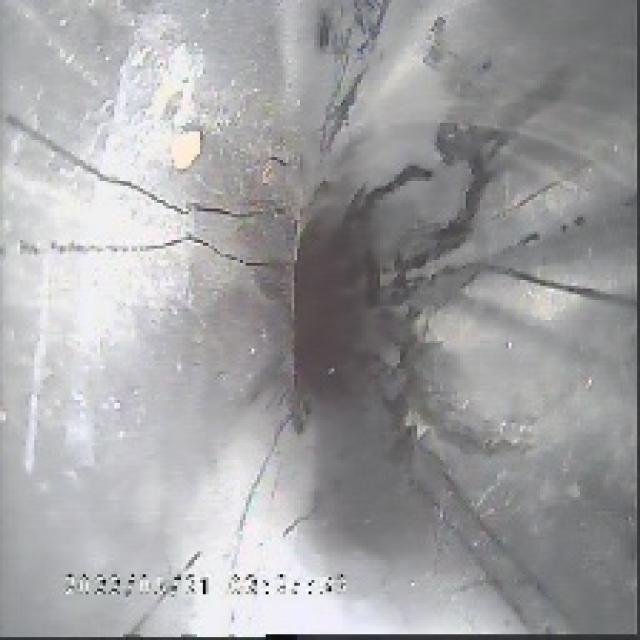shape_deformation: (174, 92, 557, 497)
